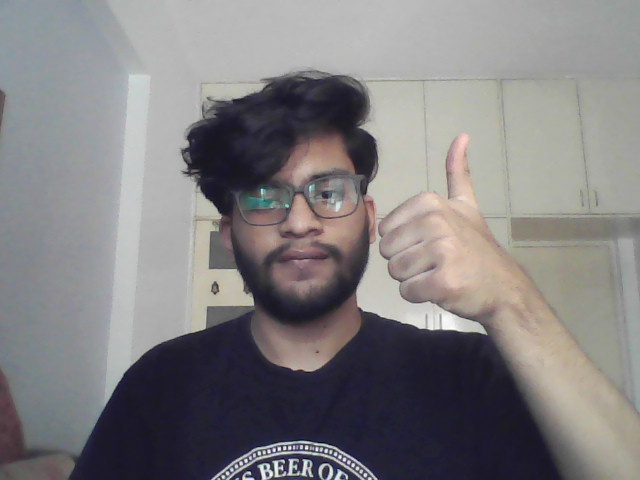Thumbsup: (374, 130, 522, 322)
